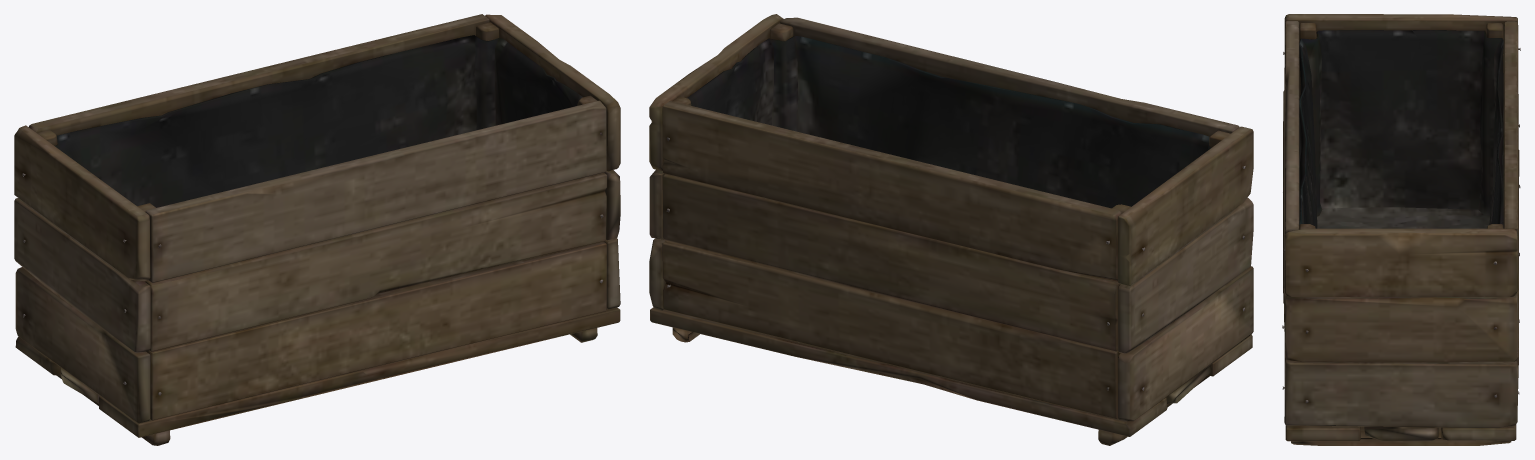
File: planter_box_01.glb
3 views of the same model, side by side, from view 1: azimuth 30°, elevation 25°; view 2: azimuth 150°, elevation 25°; view 3: azimuth 270°, elevation 25° (orthographic). The views are drawn at different scales.
Parts seen in each view (by area): view 1: planter_box_01; view 2: planter_box_01; view 3: planter_box_01.
Boxes of the visible parts, x1,y1,x2,y2 form: planter_box_01: (14, 14, 620, 445); planter_box_01: (649, 14, 1253, 445); planter_box_01: (1282, 14, 1520, 445).
Size of the model in its own units: 0.9126 by 0.425 by 0.4137.
Materials: 1 (1 with a texture image).
